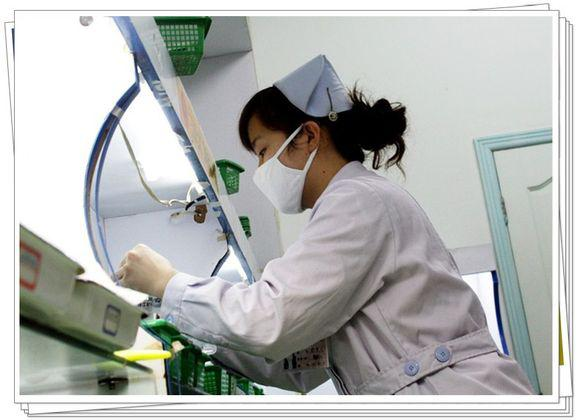OK: (244, 131, 330, 217)
